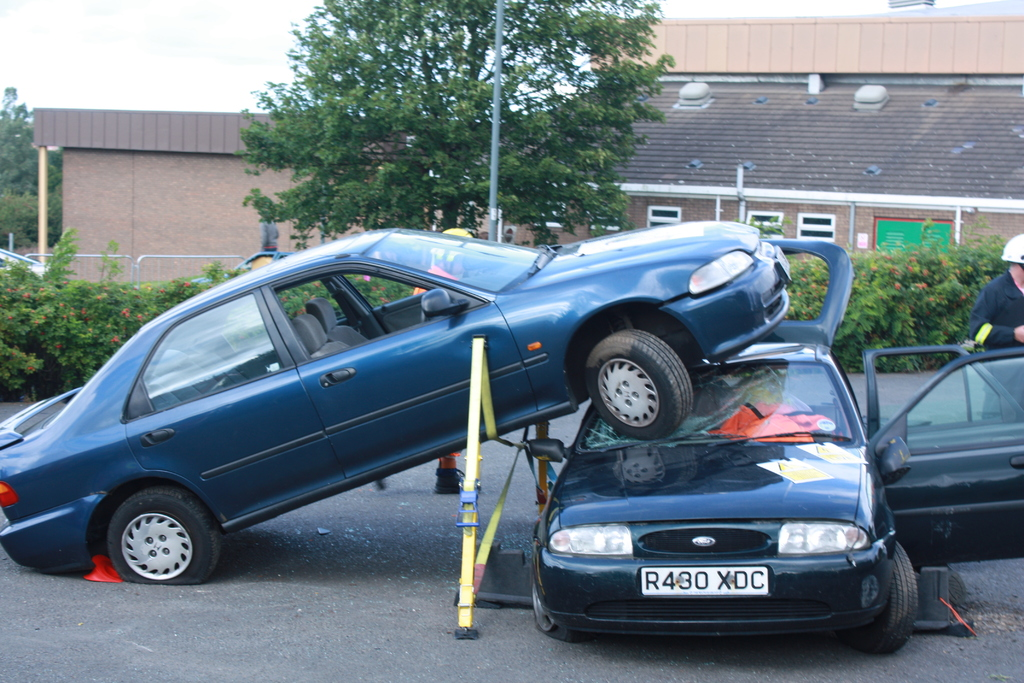Car: (30, 221, 805, 623), (529, 235, 1023, 652)
